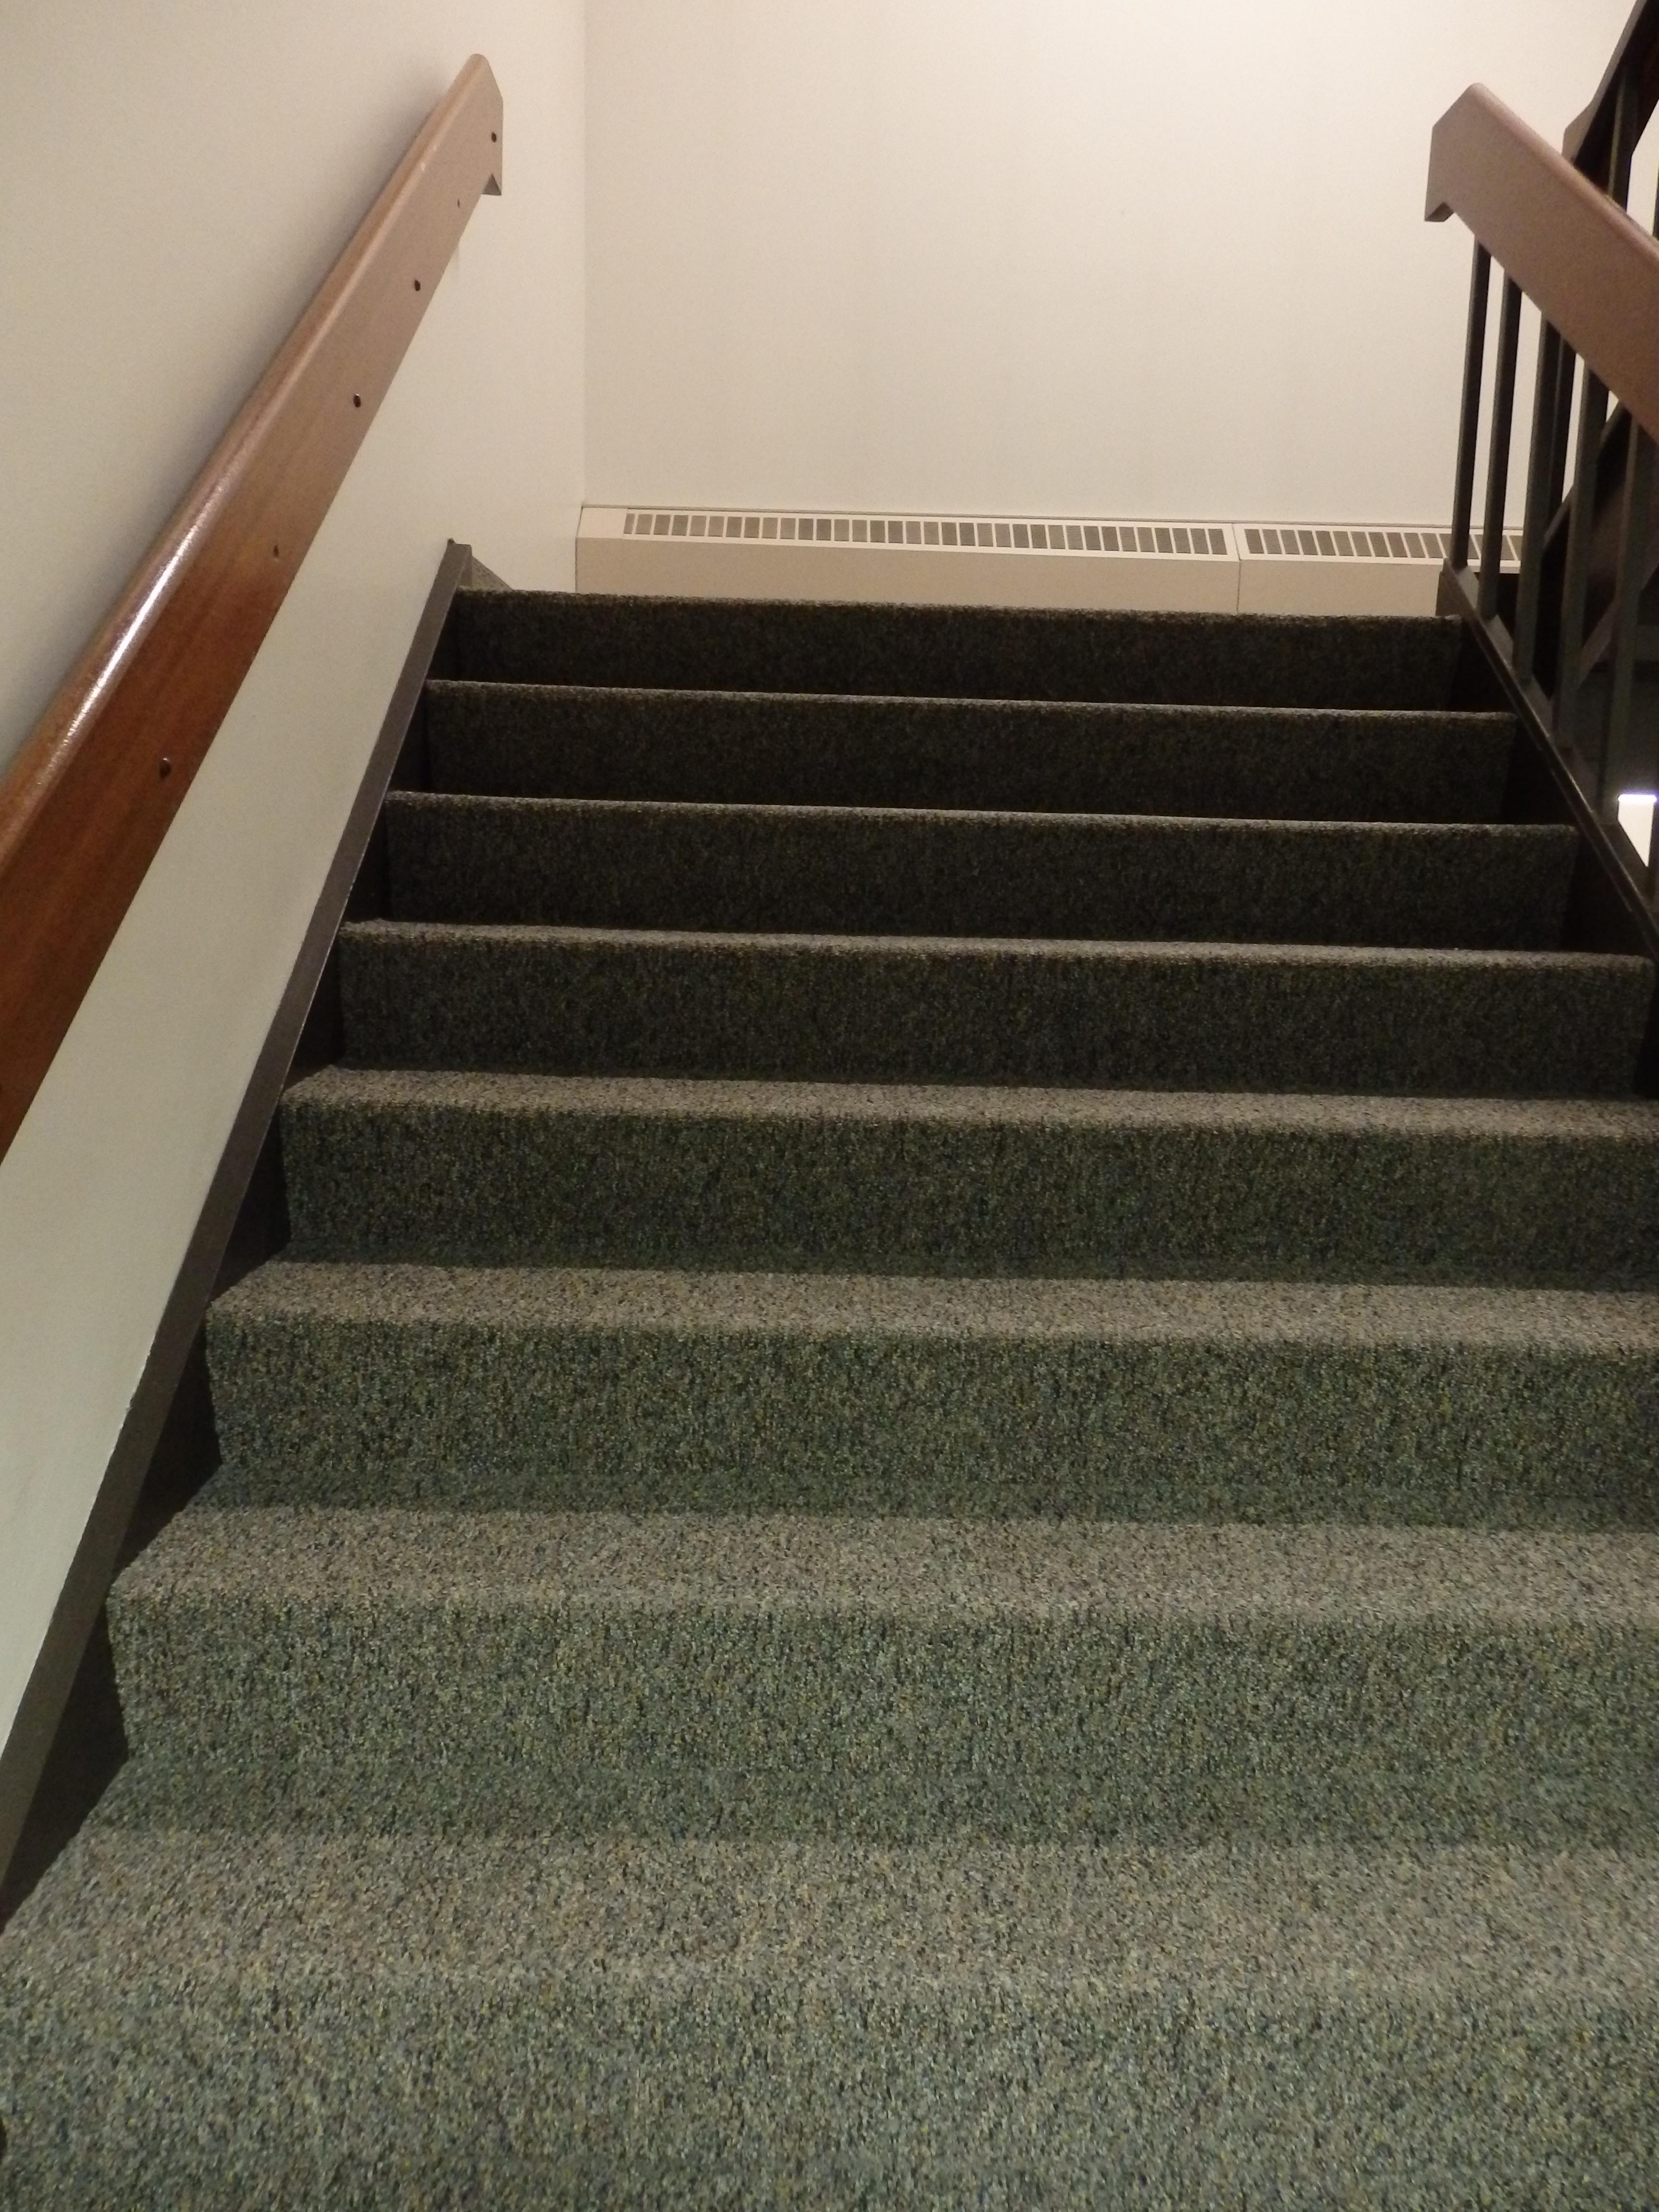stairs_up: (162, 566, 1652, 2134)
